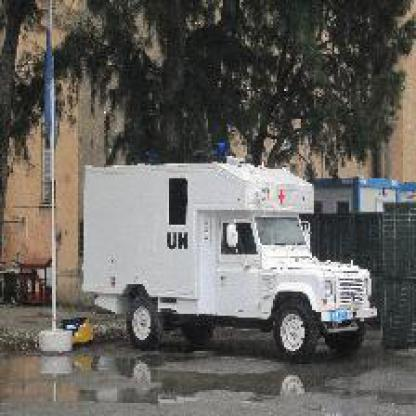emergency: (80, 142, 380, 364)
